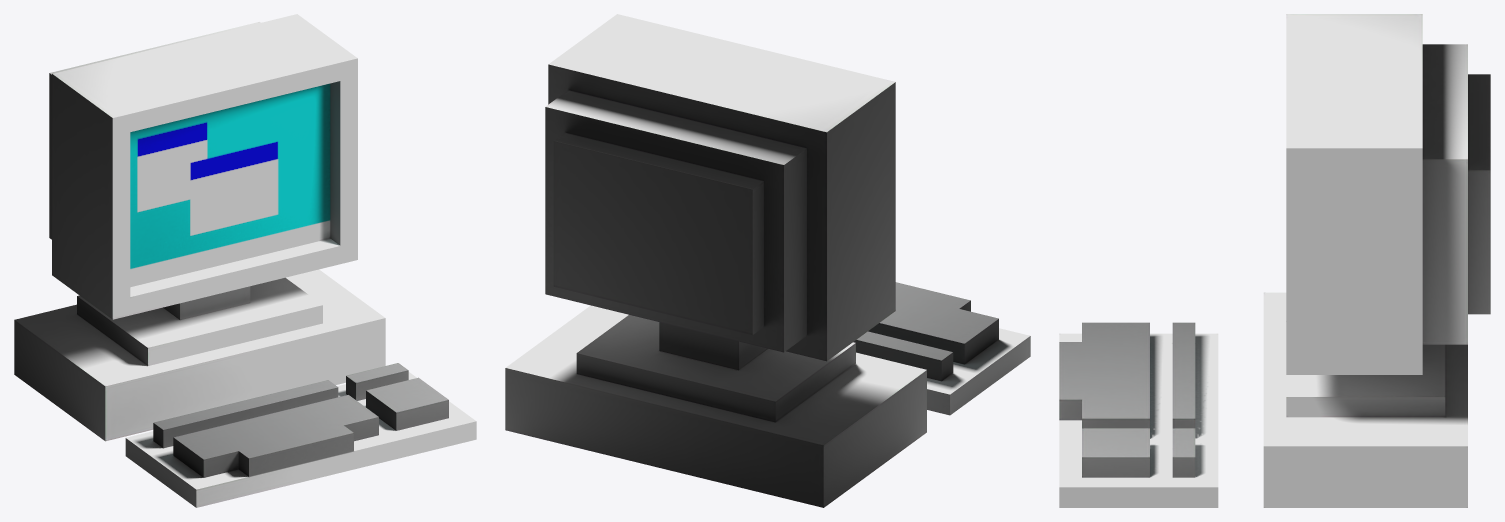
The model's file is desktop-baked.glb.
The picture shows the model from 3 angles, left to right: view 1: azimuth 30°, elevation 25°; view 2: azimuth 150°, elevation 25°; view 3: azimuth 270°, elevation 25°; orthographic projection. The views are drawn at different scales.
Parts seen in each view (by area): view 1: win95Desktop.vox; view 2: win95Desktop.vox; view 3: win95Desktop.vox.
Boxes of the visible parts, x1,y1,x2,y2 form: win95Desktop.vox: (14, 14, 476, 507); win95Desktop.vox: (505, 14, 1030, 507); win95Desktop.vox: (1059, 14, 1490, 507).
Bounding box in the file's own units: 1.6 × 1.7 × 1.9.
Materials: 1 (1 with a texture image).
